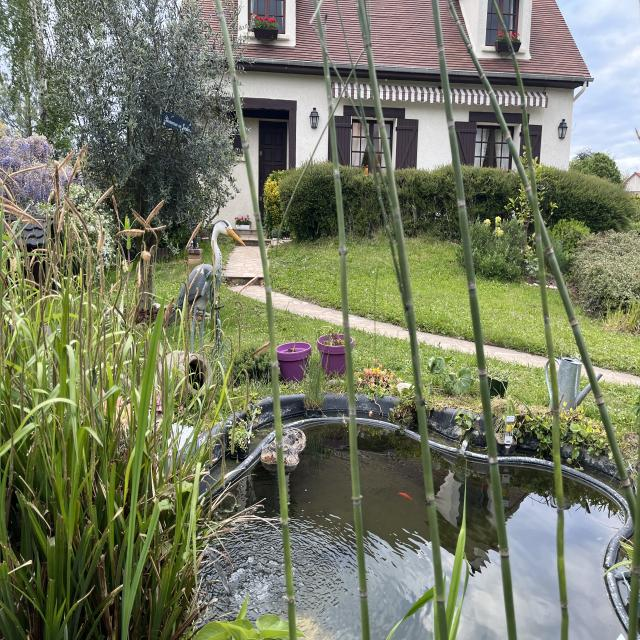Heron: (164, 208, 244, 363)
